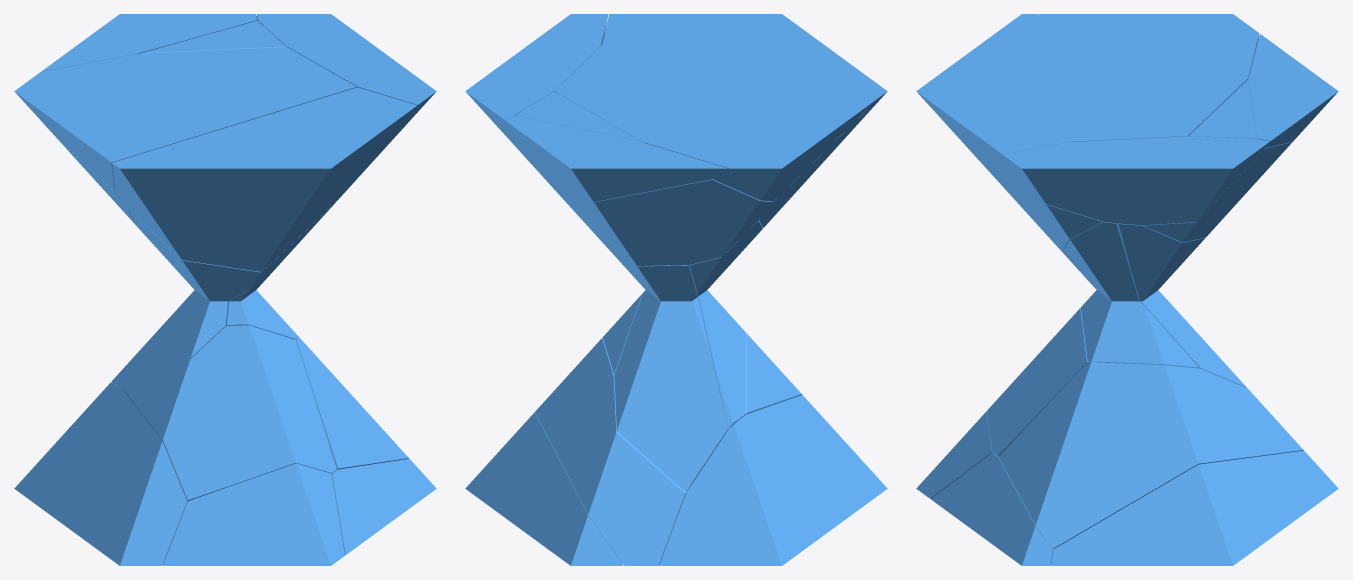
Rendered from SlowTimeFract.fbx.
3 renders of one model, left to right at view 1: azimuth 30°, elevation 25°; view 2: azimuth 150°, elevation 25°; view 3: azimuth 270°, elevation 25°, orthographic.
Parts seen in each view (by area): view 1: SlowTime_cell.001, SlowTime_cell.009, SlowTime_cell.003, SlowTime_cell.007, SlowTime_cell.013, SlowTime_cell.010, SlowTime_cell.002, SlowTime_cell.011, SlowTime_cell, SlowTime_cell.005, SlowTime_cell.004, SlowTime_cell.006; view 2: SlowTime_cell.009, SlowTime_cell.007, SlowTime_cell.008, SlowTime_cell, SlowTime_cell.004, SlowTime_cell.001, SlowTime_cell.012, SlowTime_cell.005, SlowTime_cell.002, SlowTime_cell.010, SlowTime_cell.003, SlowTime_cell.006; view 3: SlowTime_cell, SlowTime_cell.009, SlowTime_cell.012, SlowTime_cell.001, SlowTime_cell.002, SlowTime_cell.006, SlowTime_cell.011, SlowTime_cell.005, SlowTime_cell.008, SlowTime_cell.003, SlowTime_cell.004, SlowTime_cell.013.
Part boxes in pixels (x1,y1,x2,y2): SlowTime_cell.001: (112,87,417,271); SlowTime_cell.009: (14,47,356,191); SlowTime_cell.003: (121,325,336,502); SlowTime_cell.007: (14,382,187,565); SlowTime_cell.013: (163,463,344,565); SlowTime_cell.010: (111,210,270,389); SlowTime_cell.002: (256,14,436,143); SlowTime_cell.011: (331,458,436,555); SlowTime_cell: (295,335,408,473); SlowTime_cell.005: (41,14,256,71); SlowTime_cell.004: (59,20,286,223); SlowTime_cell.006: (225,199,338,339); SlowTime_cell.009: (555,45,878,201); SlowTime_cell.007: (659,395,887,565); SlowTime_cell.008: (567,203,728,491); SlowTime_cell: (535,337,691,565); SlowTime_cell.004: (510,91,772,266); SlowTime_cell.001: (602,14,887,228); SlowTime_cell.012: (465,412,623,565); SlowTime_cell.005: (503,115,727,201); SlowTime_cell.002: (465,14,608,170); SlowTime_cell.010: (689,220,762,428); SlowTime_cell.003: (691,333,801,485); SlowTime_cell.006: (602,293,704,374); SlowTime_cell: (999,362,1303,549); SlowTime_cell.009: (1039,14,1259,141); SlowTime_cell.012: (1051,450,1338,565); SlowTime_cell.001: (916,14,1103,249); SlowTime_cell.002: (1003,136,1269,225); SlowTime_cell.006: (1064,222,1198,367); SlowTime_cell.011: (931,452,1052,565); SlowTime_cell.005: (1248,34,1338,147); SlowTime_cell.008: (1116,223,1246,387); SlowTime_cell.003: (986,308,1098,456); SlowTime_cell.004: (1142,75,1292,242); SlowTime_cell.013: (916,411,998,498).
Bounding box in the file's own units: 92.92 × 111 × 107.
